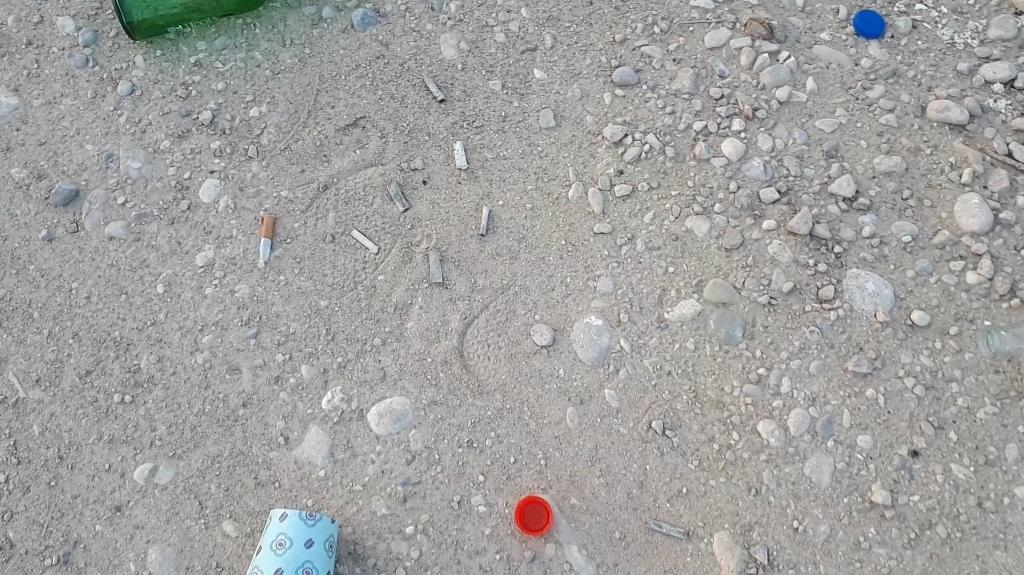garbage: (226, 497, 357, 575), (111, 0, 266, 41), (254, 208, 281, 275)
